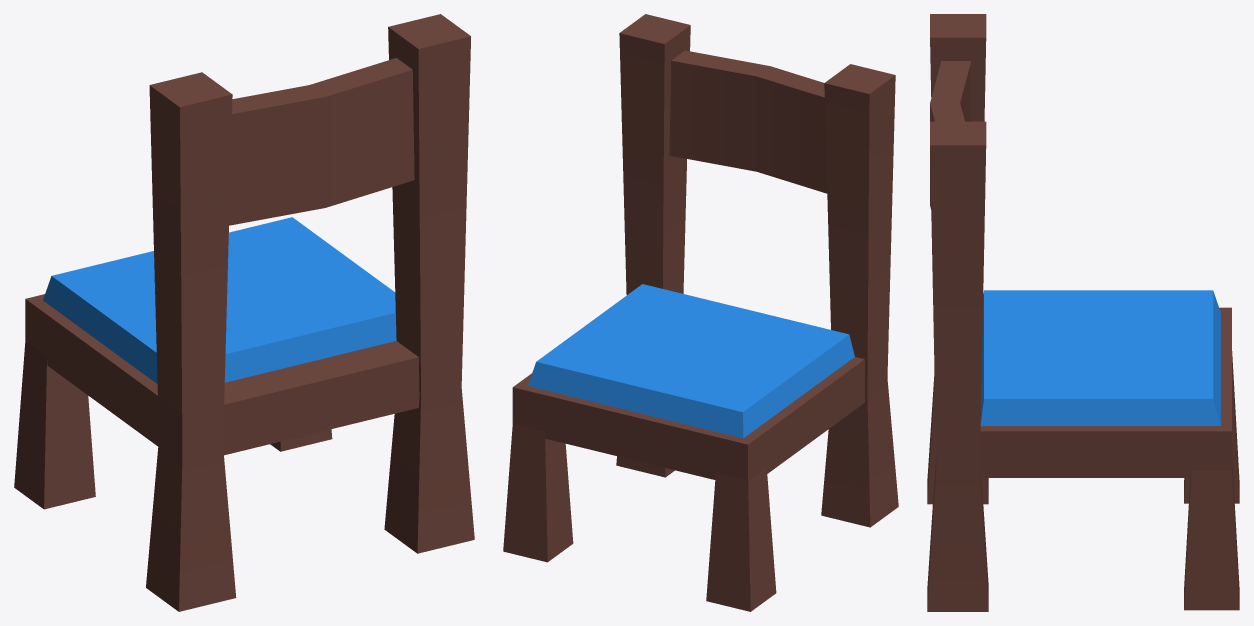
Rendered from ChairA1_geo.fbx.
3 renders of one model, left to right at view 1: azimuth 30°, elevation 25°; view 2: azimuth 150°, elevation 25°; view 3: azimuth 270°, elevation 25°, orthographic. The views are drawn at different scales.
Visible parts, largest first — view 1: ChairA1_geo; view 2: ChairA1_geo; view 3: ChairA1_geo.
Boxes of the visible parts, x1,y1,x2,y2 form: ChairA1_geo: (14, 14, 474, 611); ChairA1_geo: (503, 14, 898, 611); ChairA1_geo: (927, 14, 1239, 611).
Bounding box in the file's own units: 0.537 × 0.53 × 0.8725.
